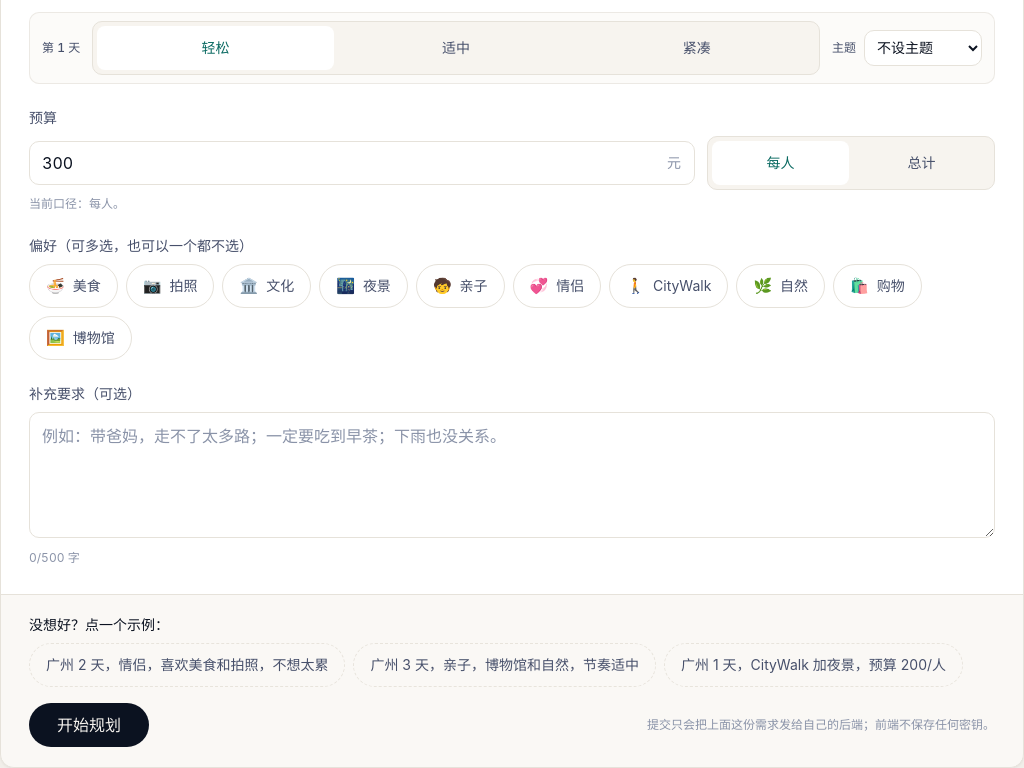
PlannerForm 后端未实现时的处理 › NetworkError：提示后端未启动，并保留请求内容
(page scrolled)
What coordinates should you click on to do the following:
click the button "开始规划"
I would click on:
 (89, 725)
Its box is [29,703,149,747].
(page scrolled)
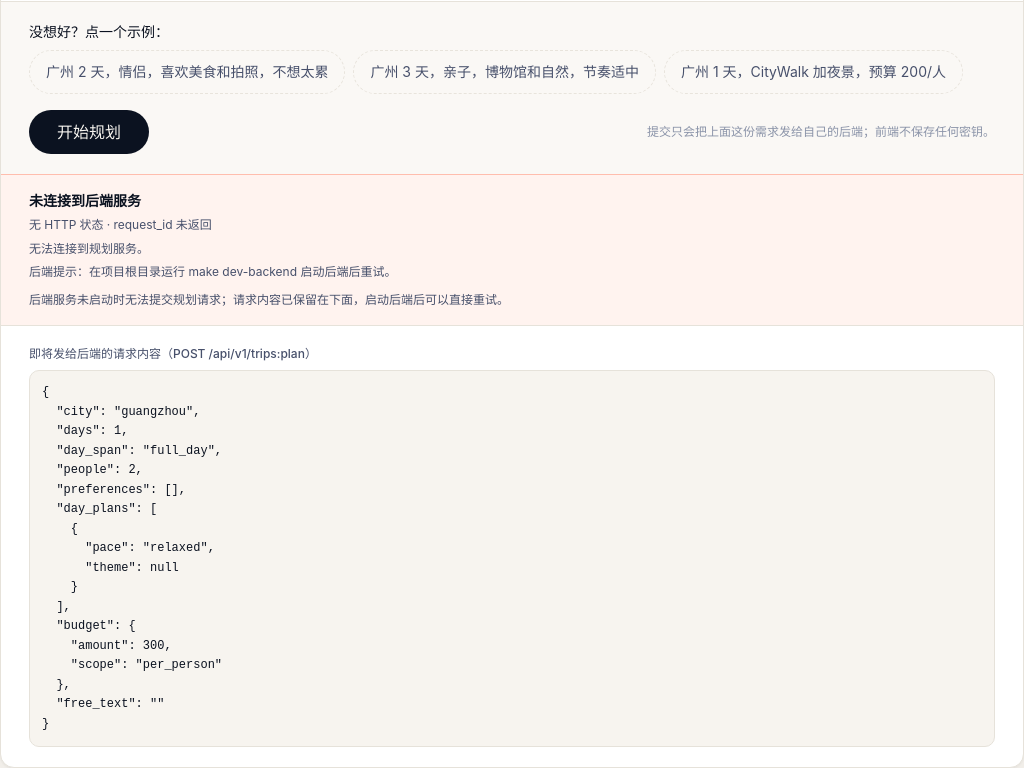
Expected: the text "未连接到后端服务" is shown, [29,192,141,209]
Expected: the text "后端提示：在项目根目录运行 make dev-backend 启动后端后重试。" is shown, [29,264,396,279]
Expected: the button with test id "plan-payload" is shown, [29,370,995,747]
